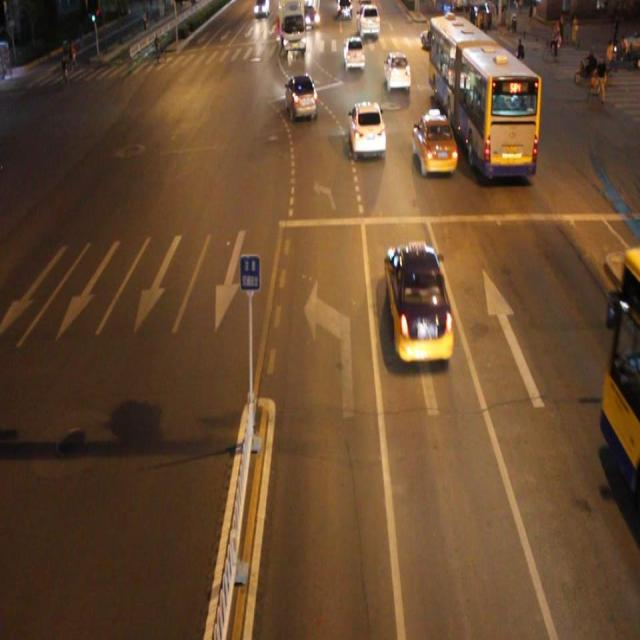car: (386, 243, 451, 360), (411, 112, 456, 174), (348, 101, 386, 156), (285, 73, 318, 119), (384, 52, 409, 91)
van: (429, 16, 537, 180), (598, 249, 640, 513)
